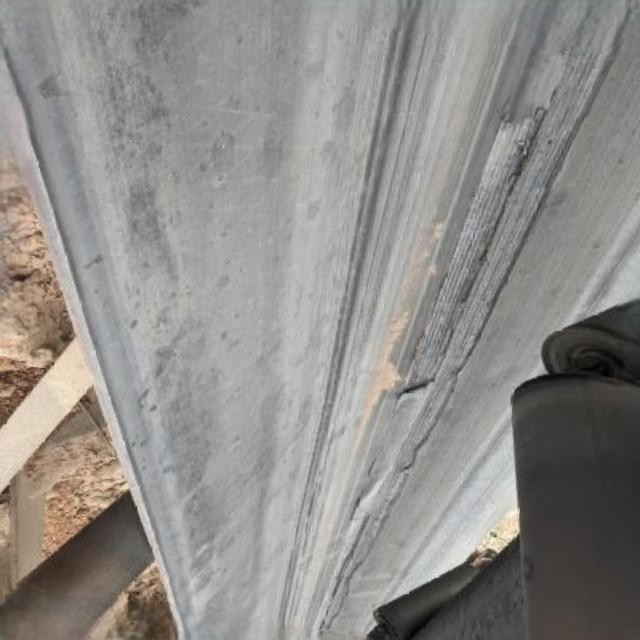Tear: (308, 25, 618, 640)
